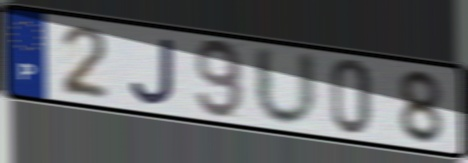0: (327, 58, 380, 140)
2: (58, 23, 112, 101)
8: (395, 68, 447, 147)
9: (193, 37, 248, 124)
J: (127, 35, 178, 108)
U: (251, 42, 322, 131)
